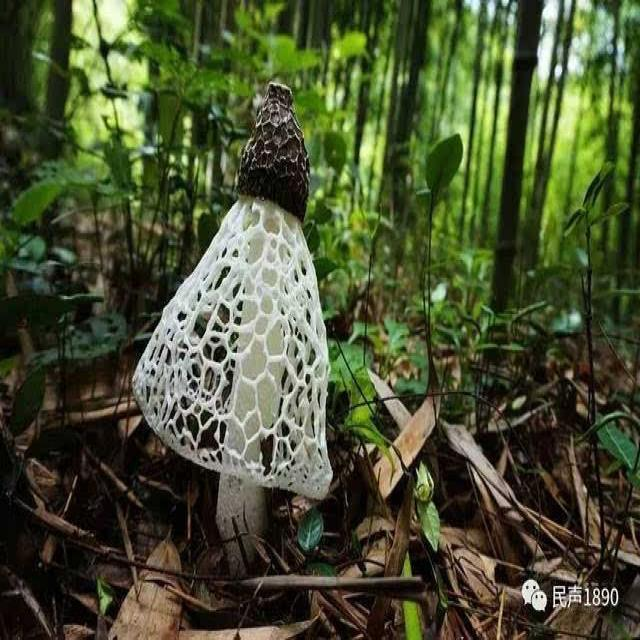Dictyophora indusiate: (129, 81, 331, 530)
